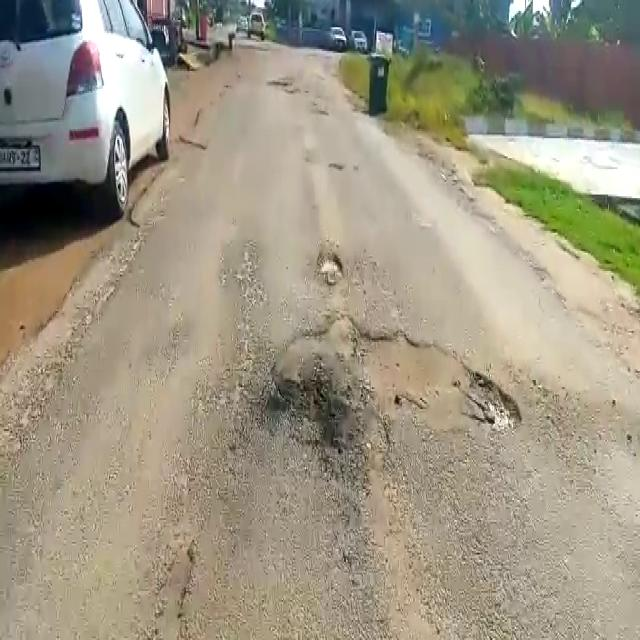Pothole: (266, 314, 525, 450), (316, 254, 346, 286)
